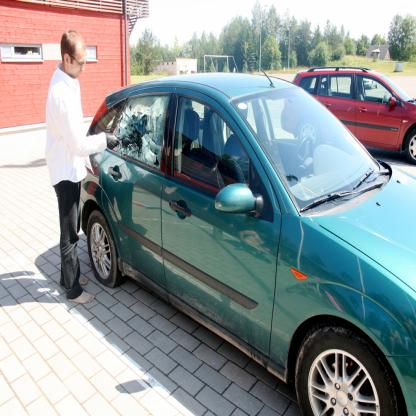Car: (80, 39, 416, 416), (281, 67, 416, 167)
